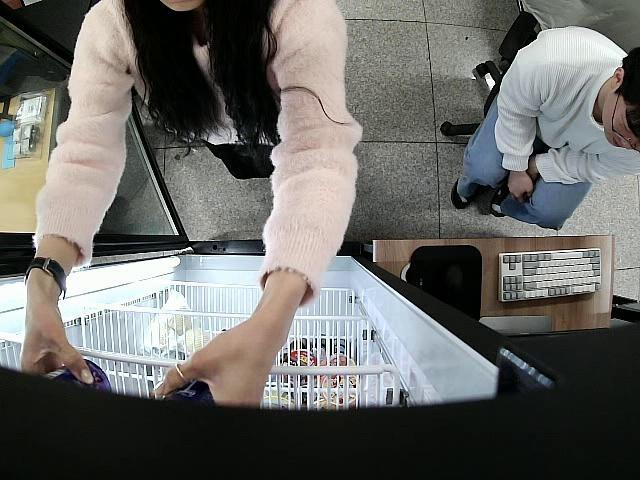14_welchsGrape: (37, 359, 115, 402), (161, 376, 220, 410)
